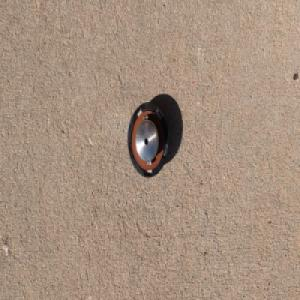FuelCap: (126, 101, 169, 178)
